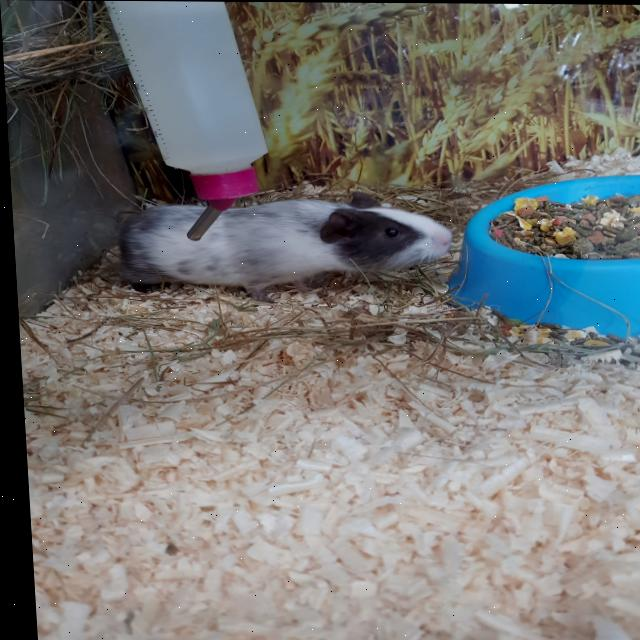guinea pig: (111, 186, 456, 301)
